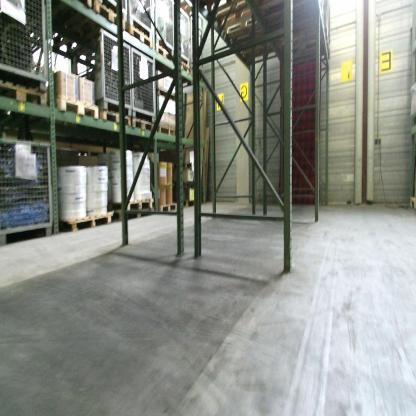pallet: (229, 22, 332, 74), (213, 1, 326, 47), (1, 82, 50, 111), (48, 100, 104, 125), (64, 206, 117, 230), (124, 22, 155, 52), (94, 3, 125, 33), (111, 191, 153, 211), (115, 206, 154, 225), (176, 0, 203, 22), (153, 198, 182, 218), (132, 116, 159, 137), (99, 109, 131, 126), (153, 44, 177, 66), (174, 56, 194, 78), (156, 126, 179, 144), (174, 198, 195, 214), (175, 163, 197, 171), (176, 184, 197, 191)
stillage: (1, 136, 58, 254), (69, 27, 133, 116), (1, 2, 57, 85), (103, 37, 155, 120), (174, 4, 193, 66), (155, 3, 177, 49), (126, 2, 157, 30), (191, 23, 206, 73), (100, 1, 129, 22)
